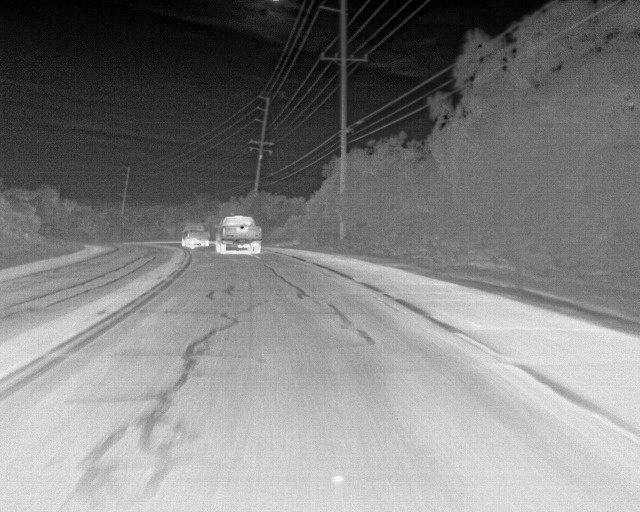vehicle: (215, 212, 262, 258), (184, 220, 210, 254)
